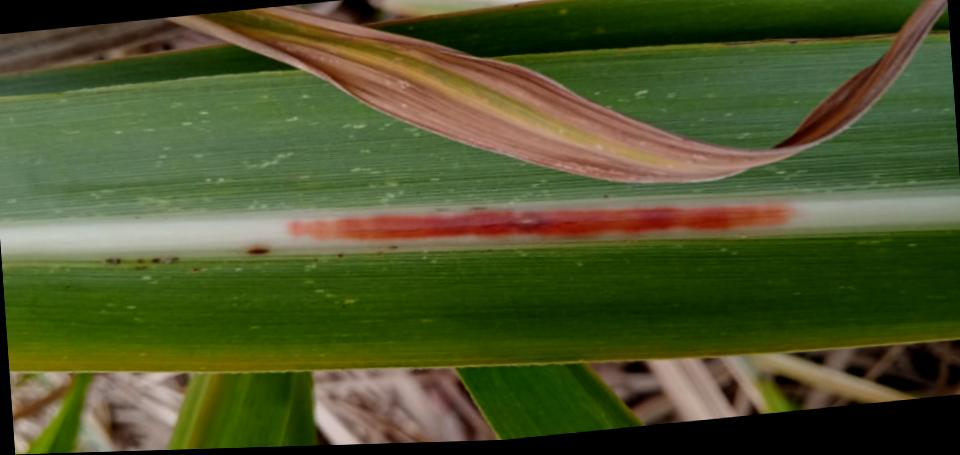RedRot: (283, 205, 799, 241)
Rust: (244, 242, 273, 256), (376, 244, 399, 256), (149, 255, 181, 263), (103, 256, 122, 265), (190, 265, 203, 275), (135, 264, 150, 271), (311, 254, 321, 264), (134, 256, 146, 263), (335, 250, 344, 259)
Yellow: (245, 0, 948, 170), (163, 14, 749, 183)
